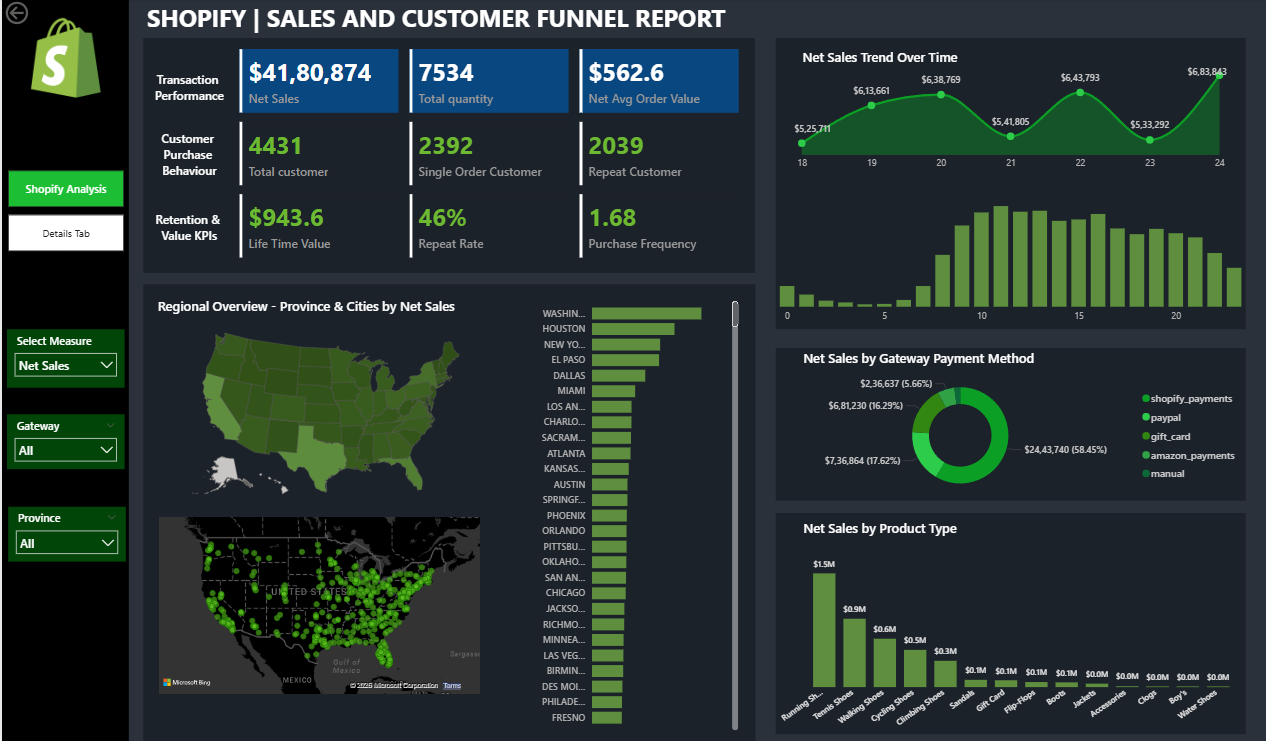

The page's visual inventory and layout, read from the dashboard file:
{"tool":"powerbi","page":{"name":"Shopify Analysis","canvas":[1700,1000],"ordinal":0},"visuals":[{"type":"shape","box":[0,0,170,998.3],"z":0},{"type":"textbox","box":[189.5,0,791,52.9],"z":1000},{"type":"shape","box":[190,53,820,315],"z":2000},{"type":"cardVisual","fields":{"Data":["shopify_sales.Net Sales","shopify_sales.TOtal quantity","shopify_sales.Net Avg Order Value"]},"box":[313.3,63.7,680.3,95.5],"z":3000},{"type":"card","fields":{"Values":["shopify_sales.Transaction Perf"]},"box":[189.3,80.4,124,78.8],"z":4000},{"type":"cardVisual","fields":{"Data":["shopify_sales.Total customer","shopify_sales.Single Order Customer","shopify_sales.Repeat Customer"]},"box":[313.3,160.9,680.3,95.5],"z":5000},{"type":"card","fields":{"Values":["shopify_sales.Customer Purchase Behaviour"]},"box":[189.3,159.2,124,95.5],"z":6000},{"type":"cardVisual","fields":{"Data":["shopify_sales.Life Time Value","shopify_sales.Repeat Rate","shopify_sales.Purchase Frequency"]},"box":[313.3,258,680.3,95.5],"z":7000},{"type":"card","fields":{"Values":["shopify_sales.Retention & Value KPIs"]},"box":[189.3,274.8,124,65.3],"z":8000},{"type":"shape","box":[189.3,383.7,821,616.6],"z":9000},{"type":"shapeMap","fields":{"Value":["shopify_sales.Net Sales"],"Category":["shopify_sales.Billing Address Province"]},"box":[206.1,432.3,455.8,249.7],"z":10000},{"type":"slicer","fields":{"Values":["Select Measure.Select Measure"]},"box":[6.7,444,157.5,78.8],"z":11000},{"type":"map","fields":{"Category":["shopify_sales.Location"]},"box":[206.1,690.4,439,284.9],"z":12000},{"type":"actionButton","box":[0,0,100,40],"z":13000},{"type":"clusteredBarChart","fields":{"Y":["shopify_sales.Net Sales"],"Category":["shopify_sales.CITY"]},"box":[707.1,393.8,284.9,593.2],"z":14000},{"type":"card","fields":{"Values":["shopify_sales.Map Title"]},"box":[189.3,397.1,437.3,35.2],"z":15000},{"type":"shape","box":[1037.2,53.6,630,390.4],"z":16000},{"type":"areaChart","fields":{"Y":["shopify_sales.Net Sales"],"Category":["shopify_sales.Invoice Date.Variation.Date Hierarchy.Day"]},"box":[1057.3,80.4,589.8,159.2],"z":17000},{"type":"columnChart","fields":{"Y":["shopify_sales.Net Sales"],"Category":["shopify_sales.Hour"]},"box":[1037.2,251.3,630,192.7],"z":18000},{"type":"card","fields":{"Values":["shopify_sales.Trend Title"]},"box":[1037.2,63.7,279.8,35.2],"z":19000},{"type":"shape","box":[1037.2,469.2,630,205],"z":20000},{"type":"donutChart","fields":{"Y":["shopify_sales.Net Sales"],"Category":["shopify_sales.Gateway"]},"box":[1037.2,499.3,630,174.3],"z":21000},{"type":"card","fields":{"Values":["shopify_sales.Gateway title"]},"box":[1037.2,469.2,383.7,30.2],"z":22000},{"type":"shape","box":[1037.2,690.4,630,296.6],"z":23000},{"type":"columnChart","fields":{"Y":["shopify_sales.Net Sales"],"Category":["shopify_sales.Product Type"]},"box":[1037.2,732.2,630,254.7],"z":24000},{"type":"card","fields":{"Values":["shopify_sales.Product title"]},"box":[1037.2,692,279.8,40.2],"z":25000},{"type":"image","box":[26.8,21.8,117.3,117.3],"z":26000},{"type":"slicer","fields":{"Values":["shopify_sales.Gateway"]},"box":[6.7,558,157.5,73.7],"z":27000},{"type":"slicer","fields":{"Values":["shopify_sales.Billing Address Province"]},"box":[8.4,682,157.5,73.7],"z":28000},{"type":"pageNavigator","box":[8.4,231.2,155.8,108.9],"z":29000}]}

Visuals, with their boxes on the page's 1700x1000 design canvas (x1, y1, x2, y2). These are canvas units, not pixel positions in the 1266x741 screenshot, which may show the page scaled, cropped or inside an application window:
shape: box=[0, 0, 170, 998]
textbox: box=[190, 0, 980, 53]
shape: box=[190, 53, 1010, 368]
cardVisual - shopify_sales.Net Sales x shopify_sales.TOtal quantity: box=[313, 64, 994, 159]
card - shopify_sales.Transaction Perf: box=[189, 80, 313, 159]
cardVisual - shopify_sales.Total customer x shopify_sales.Single Order Customer: box=[313, 161, 994, 256]
card - shopify_sales.Customer Purchase Behaviour: box=[189, 159, 313, 255]
cardVisual - shopify_sales.Life Time Value x shopify_sales.Repeat Rate: box=[313, 258, 994, 354]
card - shopify_sales.Retention & Value KPIs: box=[189, 275, 313, 340]
shape: box=[189, 384, 1010, 1000]
shapeMap - shopify_sales.Net Sales x shopify_sales.Billing Address Province: box=[206, 432, 662, 682]
slicer - Select Measure.Select Measure: box=[7, 444, 164, 523]
map - shopify_sales.Location: box=[206, 690, 645, 975]
actionButton: box=[0, 0, 100, 40]
clusteredBarChart - shopify_sales.Net Sales x shopify_sales.CITY: box=[707, 394, 992, 987]
card - shopify_sales.Map Title: box=[189, 397, 627, 432]
shape: box=[1037, 54, 1667, 444]
areaChart - shopify_sales.Net Sales x shopify_sales.Invoice Date.Variation.Date Hierarchy.Day: box=[1057, 80, 1647, 240]
columnChart - shopify_sales.Net Sales x shopify_sales.Hour: box=[1037, 251, 1667, 444]
card - shopify_sales.Trend Title: box=[1037, 64, 1317, 99]
shape: box=[1037, 469, 1667, 674]
donutChart - shopify_sales.Net Sales x shopify_sales.Gateway: box=[1037, 499, 1667, 674]
card - shopify_sales.Gateway title: box=[1037, 469, 1421, 499]
shape: box=[1037, 690, 1667, 987]
columnChart - shopify_sales.Net Sales x shopify_sales.Product Type: box=[1037, 732, 1667, 987]
card - shopify_sales.Product title: box=[1037, 692, 1317, 732]
image: box=[27, 22, 144, 139]
slicer - shopify_sales.Gateway: box=[7, 558, 164, 632]
slicer - shopify_sales.Billing Address Province: box=[8, 682, 166, 756]
pageNavigator: box=[8, 231, 164, 340]
